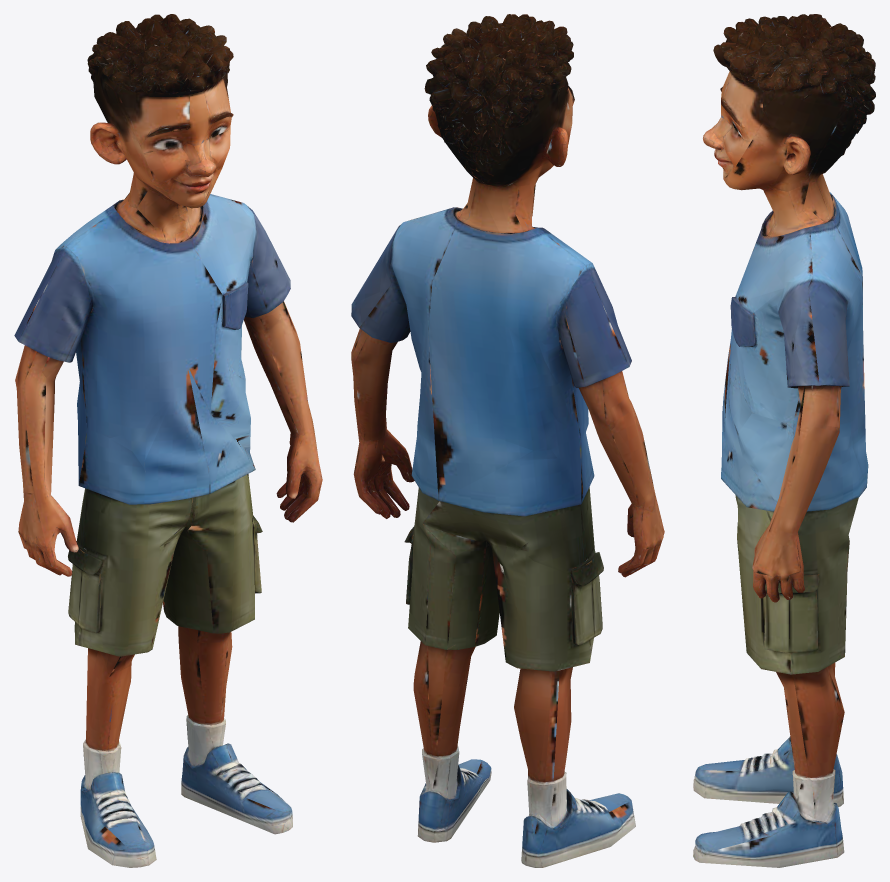
Rendered from boy.glb.
3 views of the same model, side by side, from view 1: azimuth 30°, elevation 25°; view 2: azimuth 150°, elevation 25°; view 3: azimuth 270°, elevation 25° (orthographic). The views are drawn at different scales.
Parts seen in each view (by area): view 1: Mesh; view 2: Mesh; view 3: Mesh.
Part boxes in pixels (box(x1,y1,x2,y2)): Mesh: box(14, 14, 322, 867); Mesh: box(351, 14, 664, 867); Mesh: box(693, 14, 875, 867).
Size of the model in its own units: 0.6551 by 1.71 by 0.3522.
Materials: 1 (1 with a texture image).
